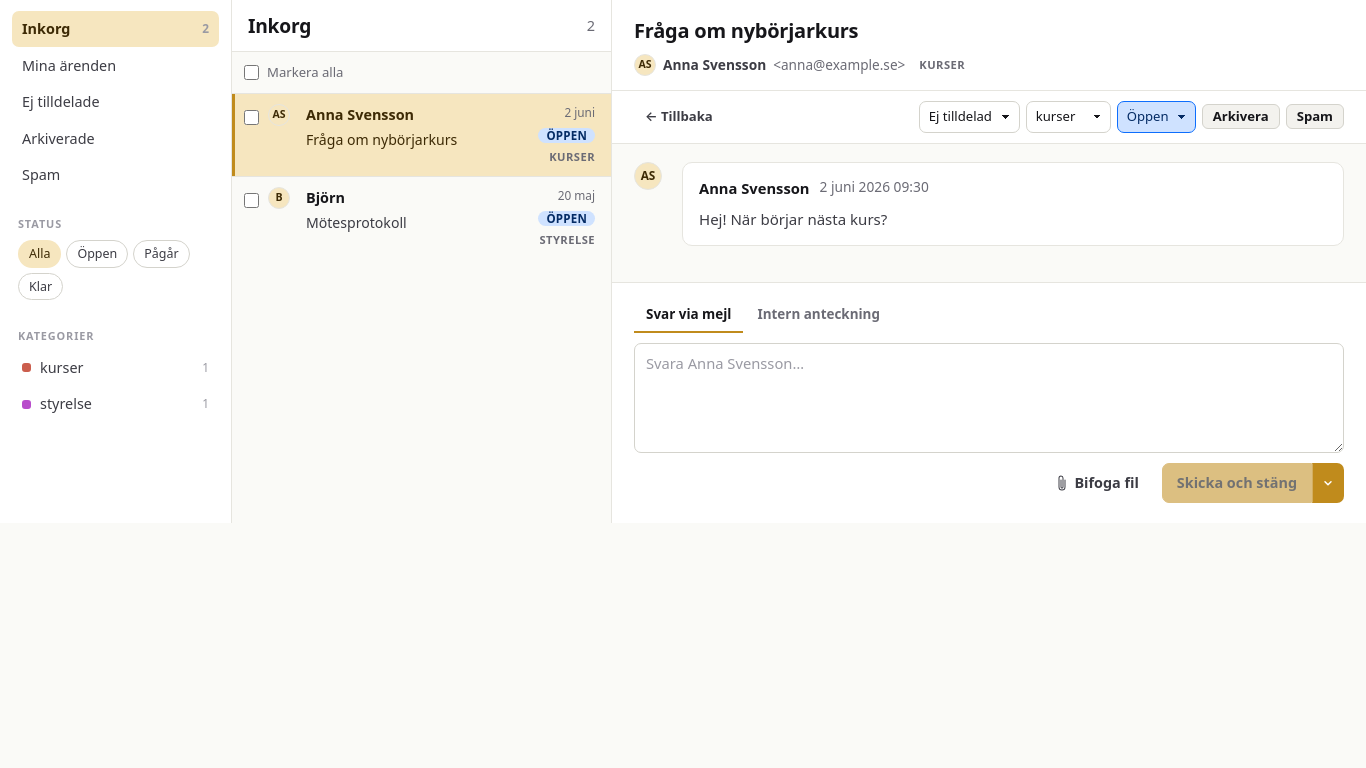
Scenario: InboxView (integration with store + fetch shim) › Send and close flips the message state to Klar
Type "Klart!" into the text box with test id "reply-body" at [989, 398], box [634, 343, 1344, 453]
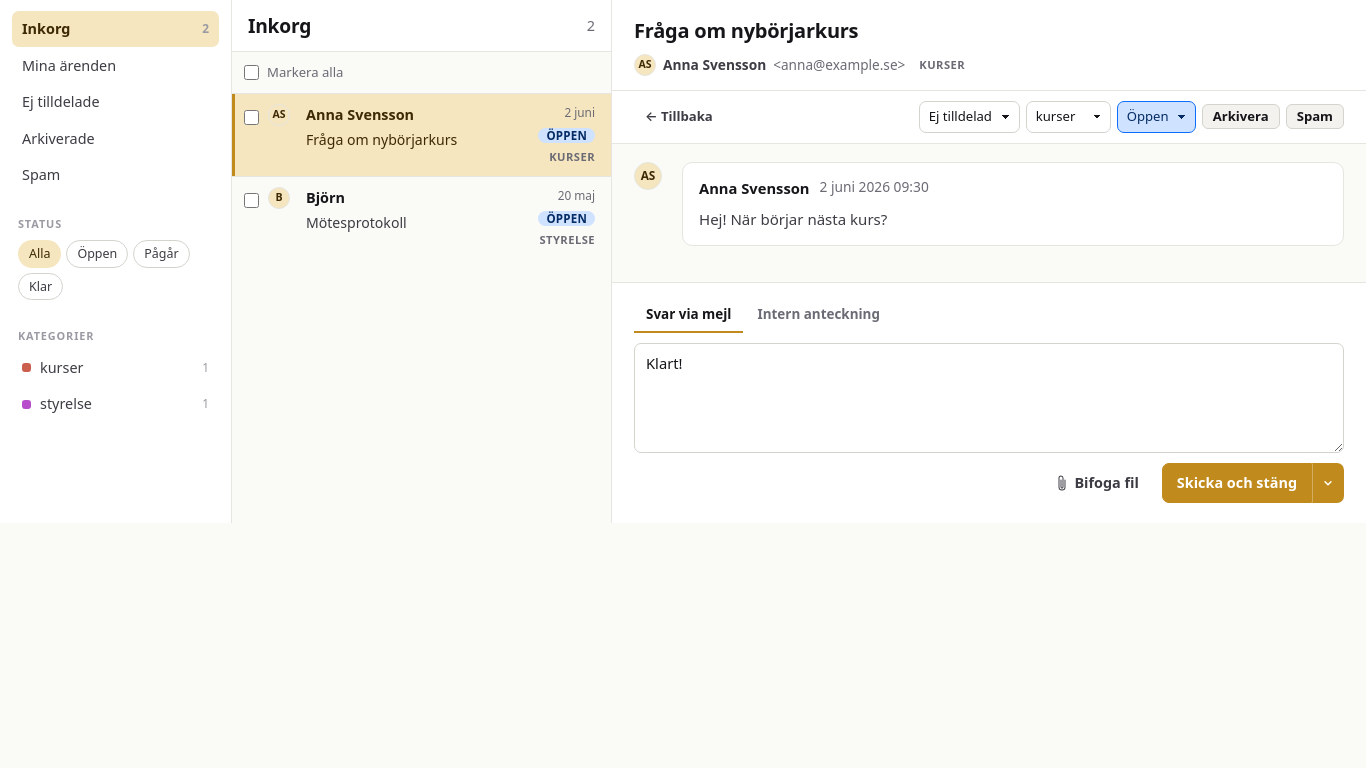
Click the button with test id "send-reply" at [1237, 483], box [1162, 463, 1312, 503]
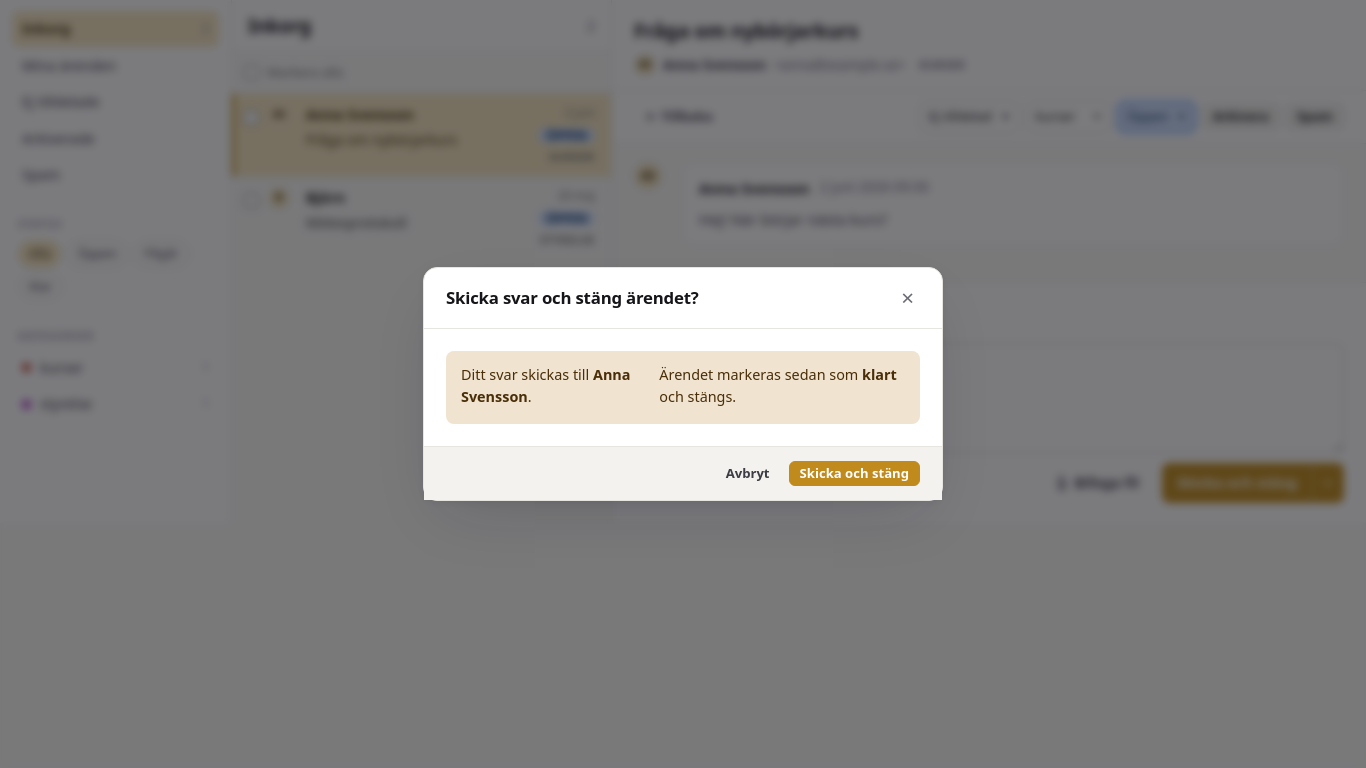
Click the button with test id "confirm-send-close" at [854, 474], box [788, 461, 920, 486]
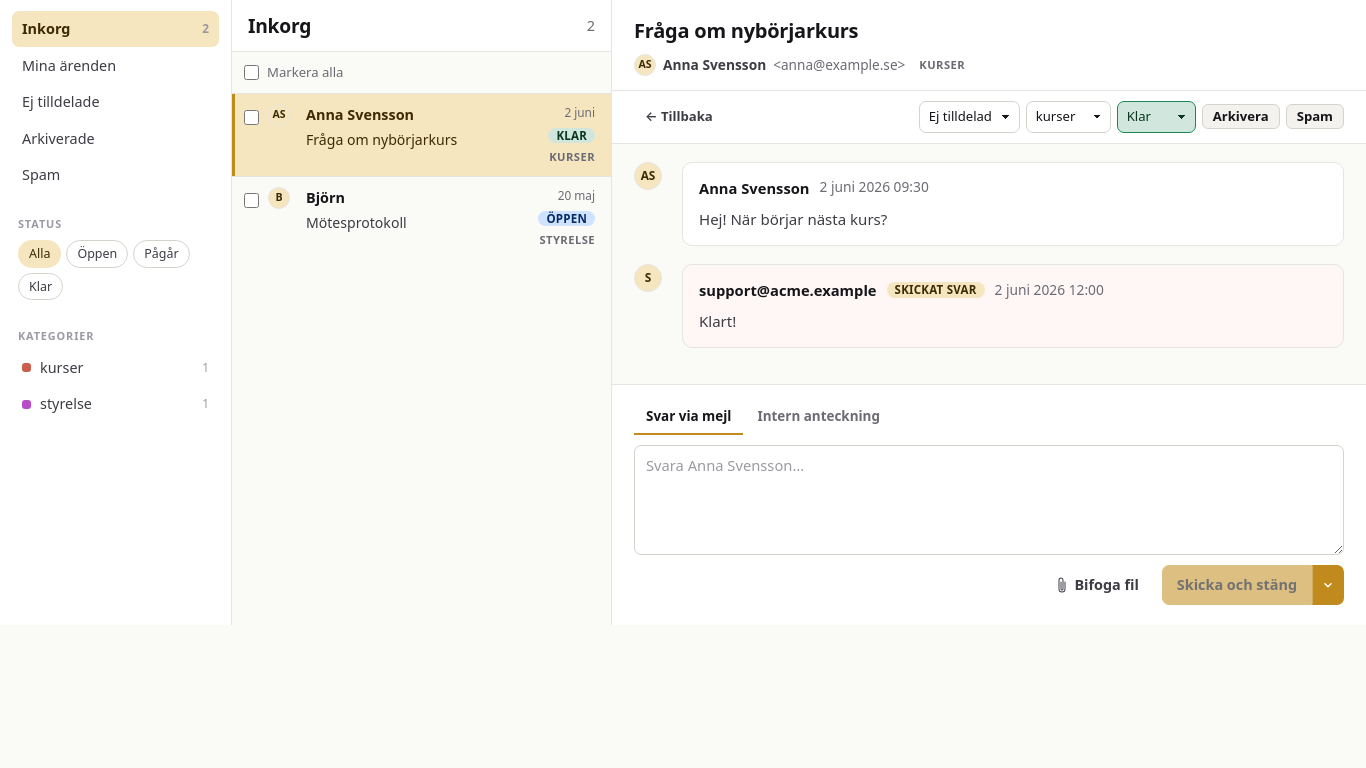
Expected: the text "Klar" is shown, [548, 128, 595, 143]
